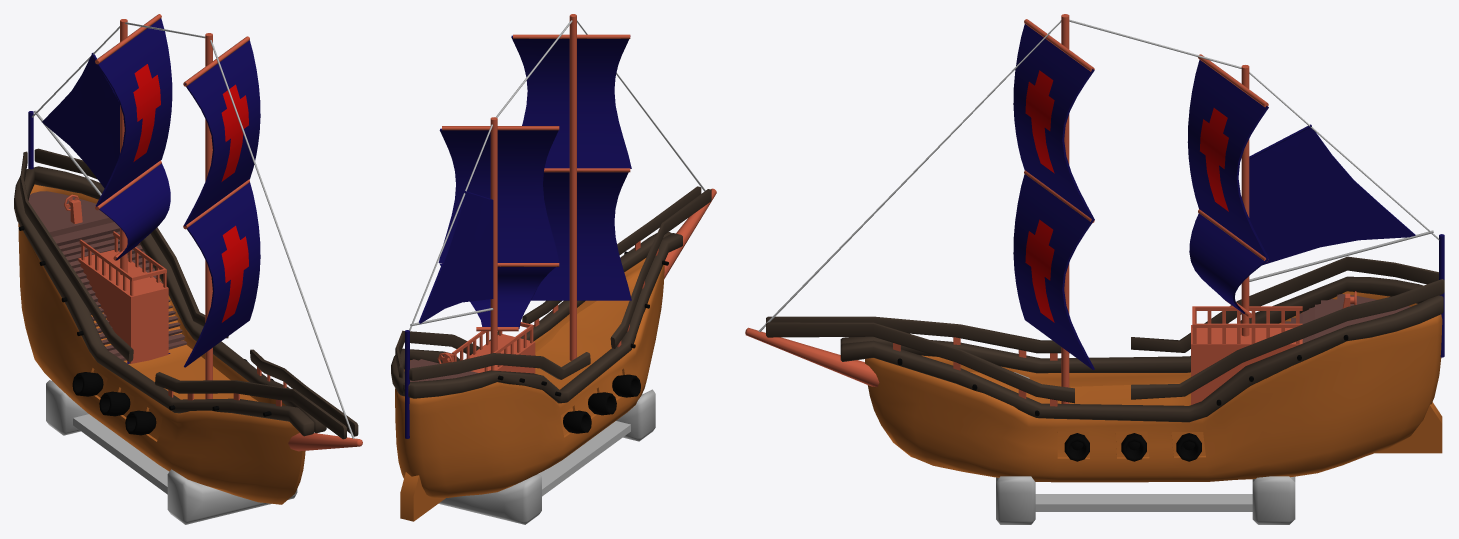
The model's file is bateau01.fbx.
3 renders of one model, left to right at view 1: azimuth 30°, elevation 25°; view 2: azimuth 150°, elevation 25°; view 3: azimuth 270°, elevation 25°, orthographic. The views are drawn at different scales.
Parts seen in each view (by area): view 1: bateau01; view 2: bateau01; view 3: bateau01.
Part boxes in pixels (<box>): bateau01: <box>14,14,362,524</box>; bateau01: <box>391,14,716,524</box>; bateau01: <box>745,14,1444,524</box>.
Bounding box in the file's own units: 5.33 × 15.55 × 20.49.
